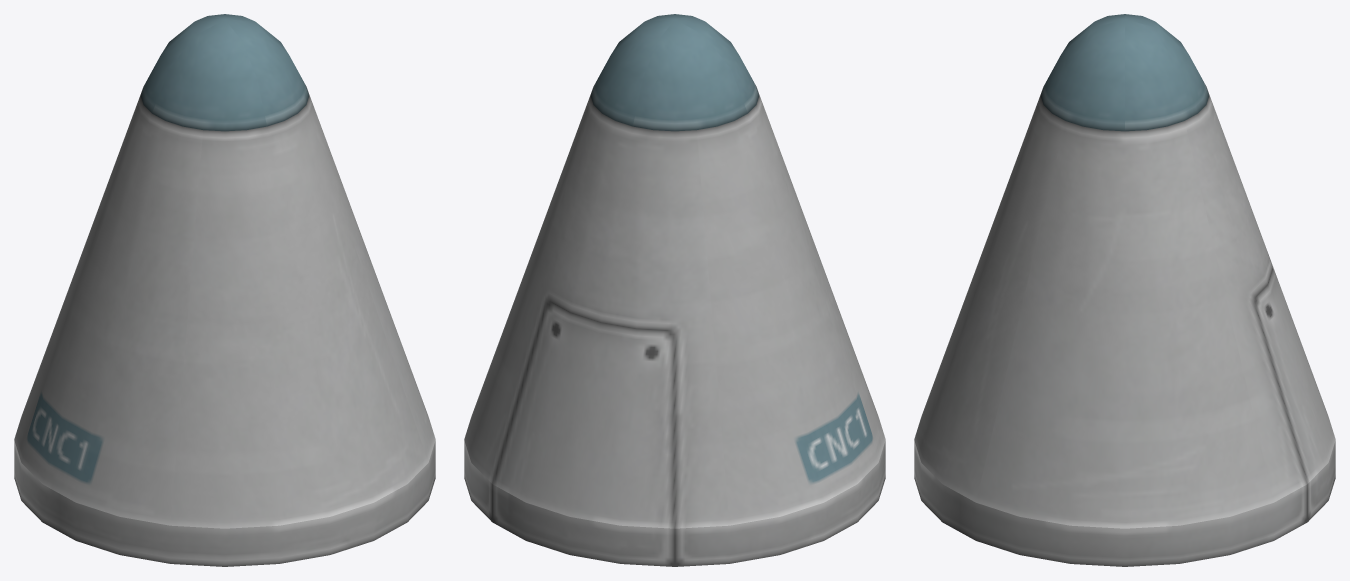
The model's file is Conic_ProbeCore_0_1.obj.
3 renders of one model, left to right at view 1: azimuth 30°, elevation 25°; view 2: azimuth 150°, elevation 25°; view 3: azimuth 270°, elevation 25°, orthographic.
Visible parts, largest first — view 1: SatConic_ProbeCore_0_1; view 2: SatConic_ProbeCore_0_1; view 3: SatConic_ProbeCore_0_1.
Part boxes in pixels (x1,y1,x2,y2): SatConic_ProbeCore_0_1: [14, 14, 435, 566]; SatConic_ProbeCore_0_1: [464, 14, 885, 566]; SatConic_ProbeCore_0_1: [914, 14, 1335, 566].
Bounding box in the file's own units: 0.625 × 0.75 × 0.625.
